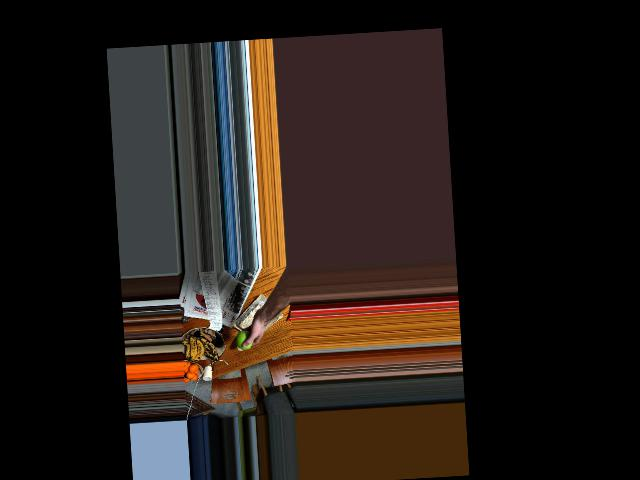apple: (236, 327, 256, 350)
